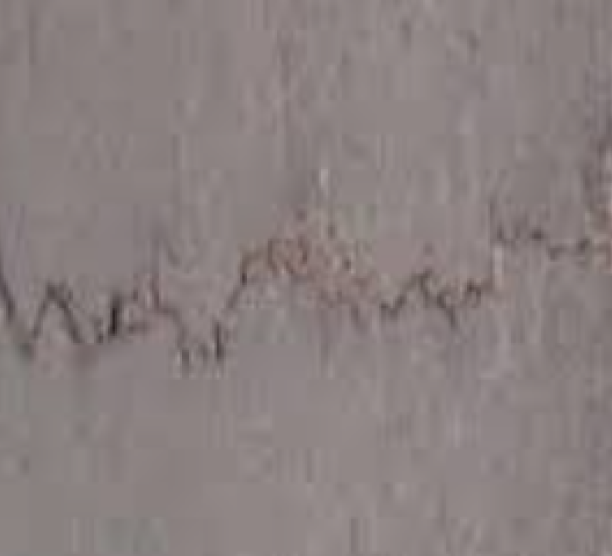Retak Melintang: (7, 210, 612, 382)
